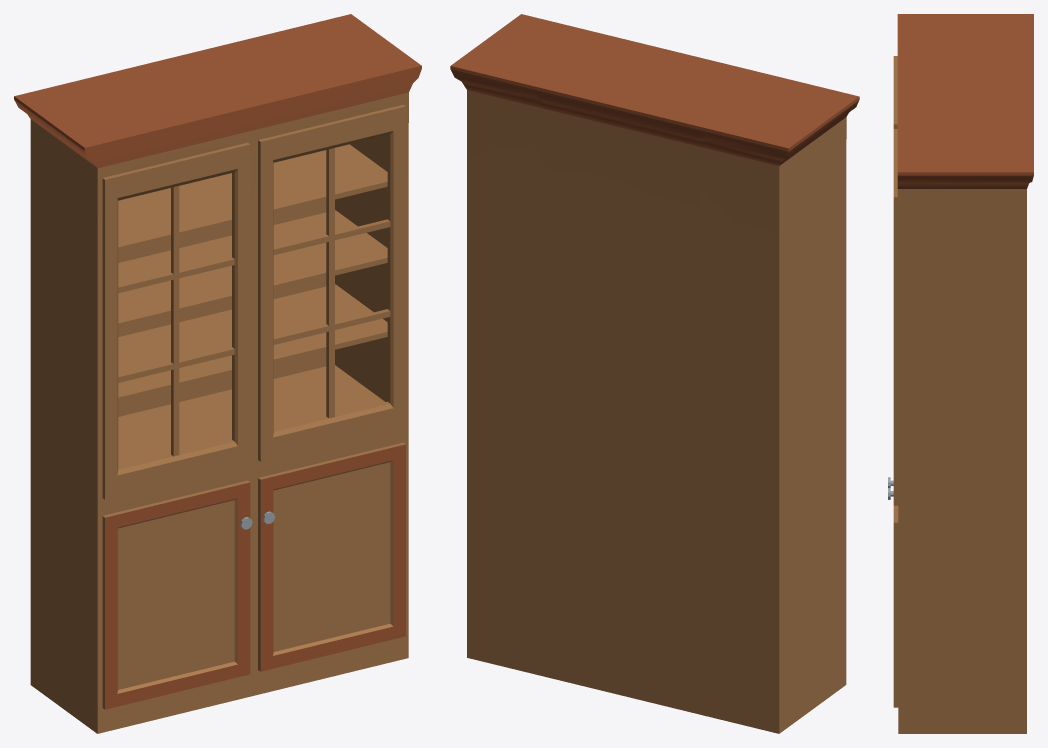
File: ShowCaseMiddle.fbx
3 renders of one model, left to right at view 1: azimuth 30°, elevation 25°; view 2: azimuth 150°, elevation 25°; view 3: azimuth 270°, elevation 25°, orthographic. The views are drawn at different scales.
Parts seen in each view (by area): view 1: ShowCaseMiddle; view 2: ShowCaseMiddle; view 3: ShowCaseMiddle.
Boxes of the visible parts, x1=… form: ShowCaseMiddle: x1=14, y1=14, x2=421, y2=733; ShowCaseMiddle: x1=450, y1=14, x2=859, y2=733; ShowCaseMiddle: x1=888, y1=14, x2=1033, y2=733.
Size of the model in its own units: 154 by 257 by 59.81.
